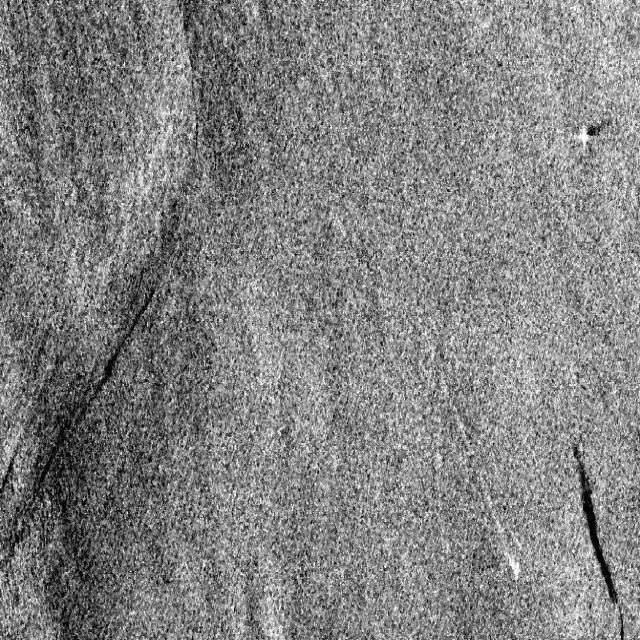look-alike: (0, 248, 160, 633), (180, 0, 238, 173)
oil-spill: (562, 442, 628, 633), (588, 115, 610, 144)
